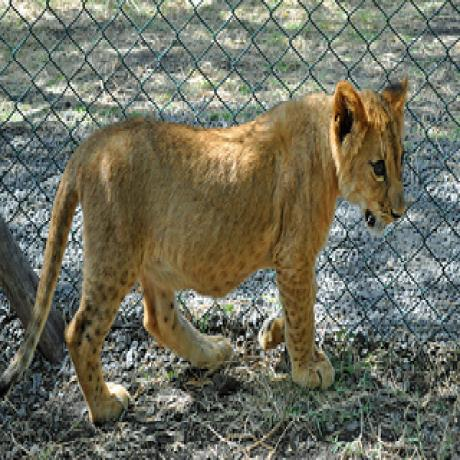Lion: (0, 73, 411, 400)
